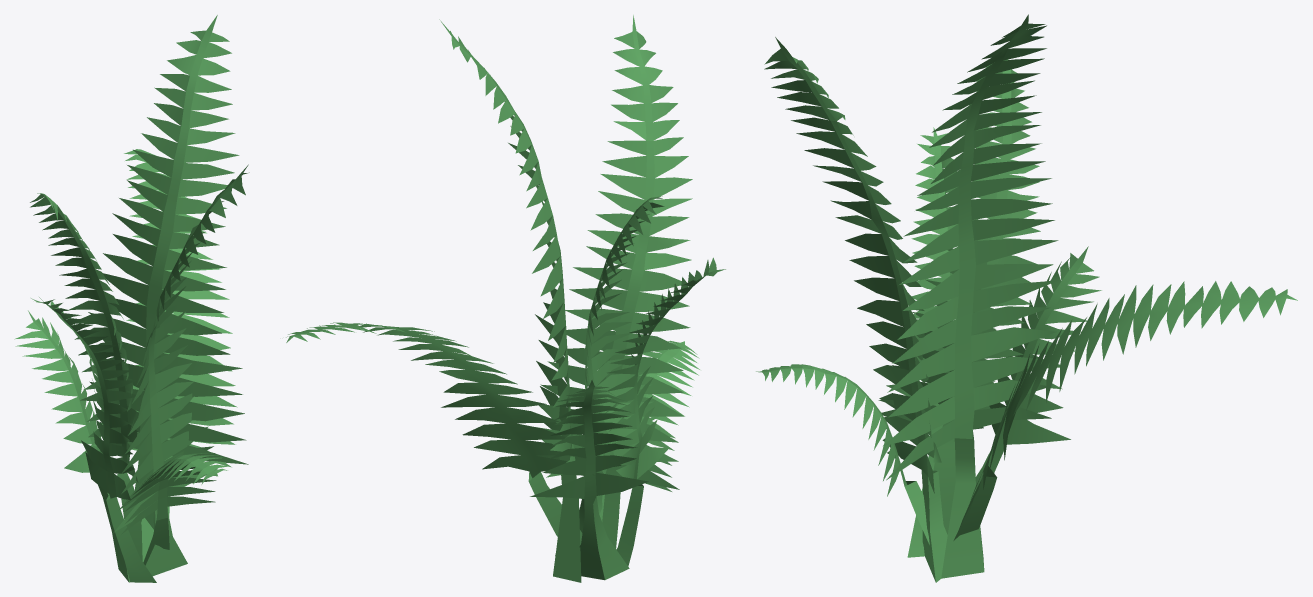
Rendered from plant_furn_B.fbx.
The picture shows the model from 3 angles, left to right: view 1: azimuth 30°, elevation 25°; view 2: azimuth 150°, elevation 25°; view 3: azimuth 270°, elevation 25°; orthographic projection. The views are drawn at different scales.
Parts seen in each view (by area): view 1: plant_furn_B; view 2: plant_furn_B; view 3: plant_furn_B.
Boxes of the visible parts, x1=… form: plant_furn_B: x1=14, y1=15, x2=249, y2=582; plant_furn_B: x1=286, y1=15, x2=725, y2=582; plant_furn_B: x1=756, y1=14, x2=1297, y2=582.
Bounding box in the file's own units: 126 × 225 × 182.
